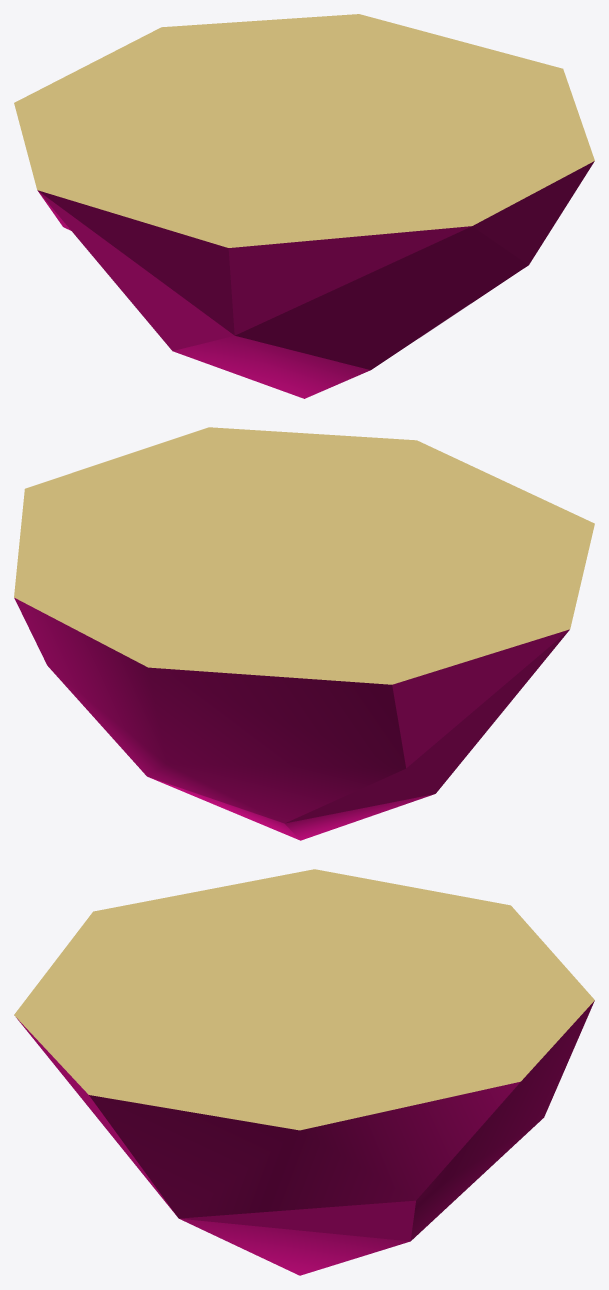
The model's file is IslandModel.fbx.
3 views of the same model, one above another, from view 1: azimuth 30°, elevation 25°; view 2: azimuth 150°, elevation 25°; view 3: azimuth 270°, elevation 25° (orthographic). The views are drawn at different scales.
Parts seen in each view (by area): view 1: pCube1; view 2: pCube1; view 3: pCube1.
Boxes of the visible parts, x1,y1,x2,y2 form: pCube1: (14,14,594,398); pCube1: (14,427,594,840); pCube1: (14,869,594,1275).
Size of the model in its own units: 7.2 by 3.54 by 6.77.
